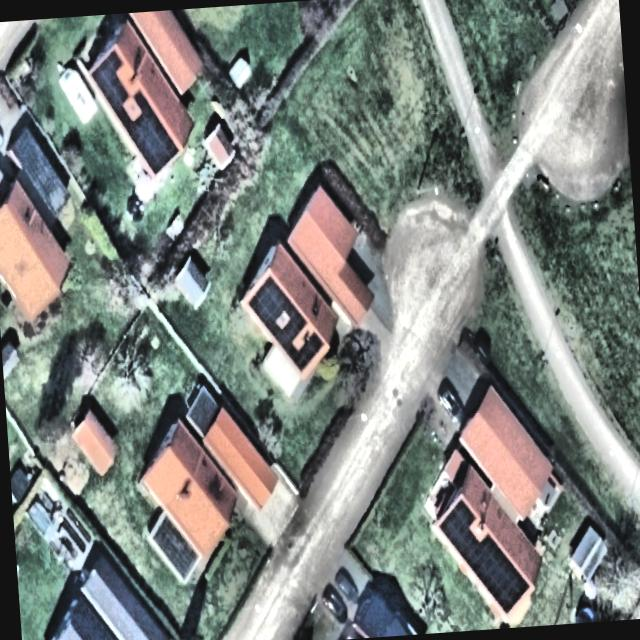roof_pv: (88, 40, 180, 180), (246, 268, 324, 379), (466, 542, 536, 616), (433, 494, 497, 558)
